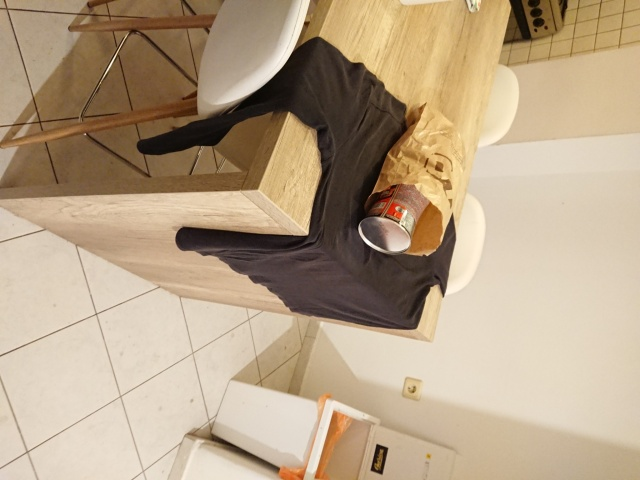Nescafe Classic 225g: (354, 155, 438, 259)
